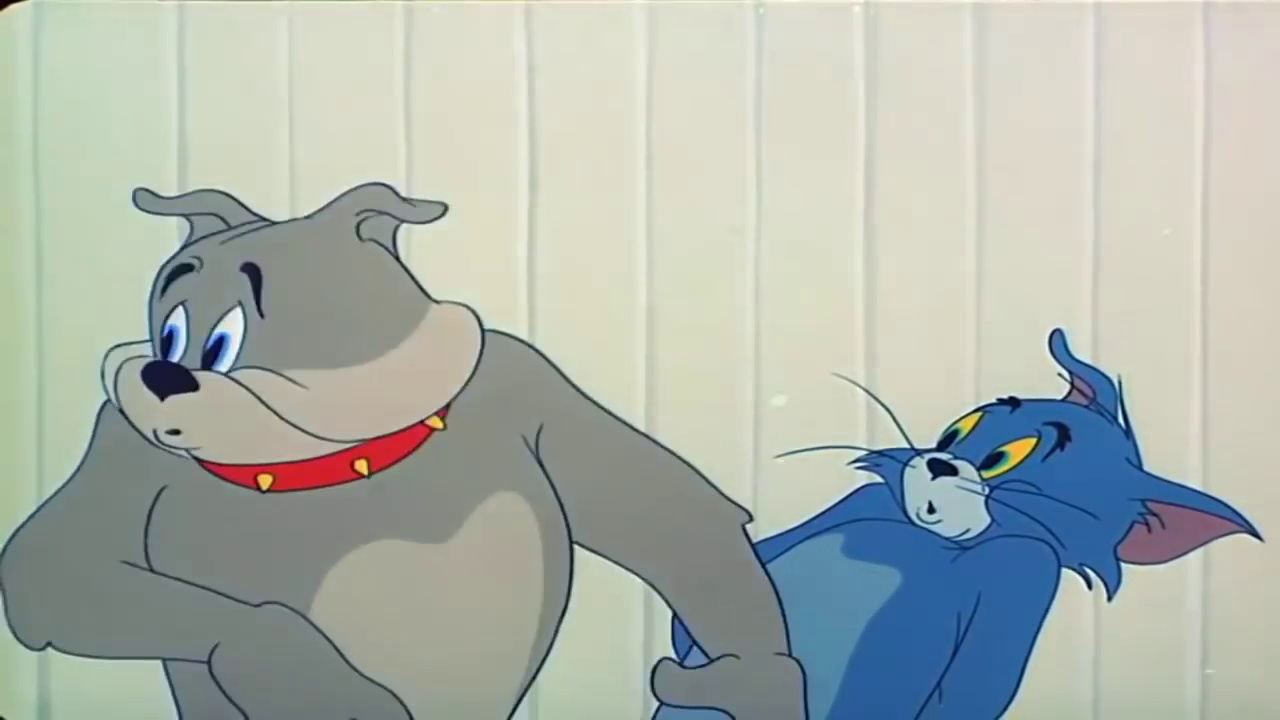spike: (91, 175, 490, 497)
tom: (846, 328, 1264, 604)
